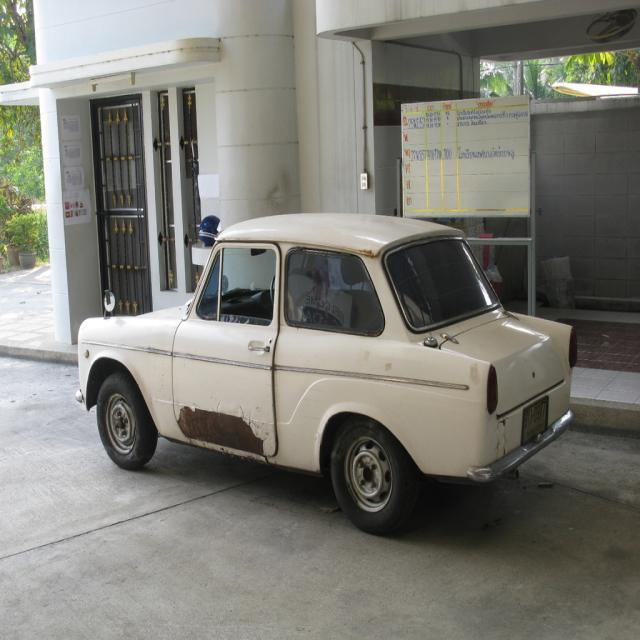car: (80, 219, 570, 533)
